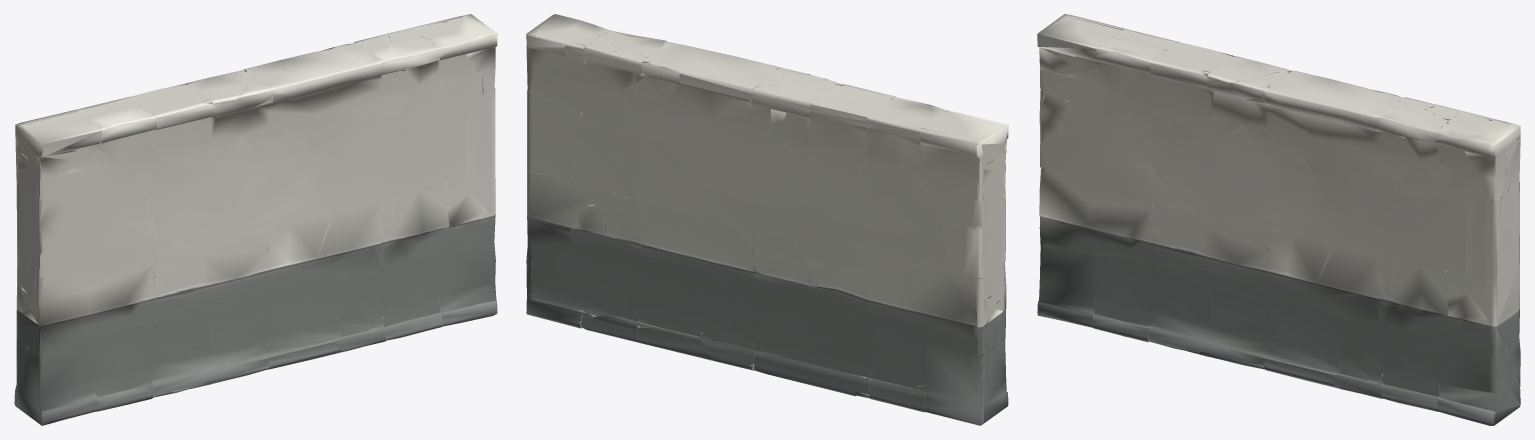
The model's file is wallModel.fbx.
The picture shows the model from 3 angles, left to right: view 1: azimuth 30°, elevation 25°; view 2: azimuth 150°, elevation 25°; view 3: azimuth 330°, elevation 25°; orthographic projection.
Parts seen in each view (by area): view 1: tripo_node_a96238ed-45dd-40b9-9556-c113622b3252; view 2: tripo_node_a96238ed-45dd-40b9-9556-c113622b3252; view 3: tripo_node_a96238ed-45dd-40b9-9556-c113622b3252.
Boxes of the visible parts, x1,y1,x2,y2 form: tripo_node_a96238ed-45dd-40b9-9556-c113622b3252: [14, 14, 497, 425]; tripo_node_a96238ed-45dd-40b9-9556-c113622b3252: [526, 14, 1008, 425]; tripo_node_a96238ed-45dd-40b9-9556-c113622b3252: [1037, 14, 1520, 425].
Size of the model in its own units: 98.06 by 58.39 by 11.41.
Materials: 1 (1 with a texture image).
